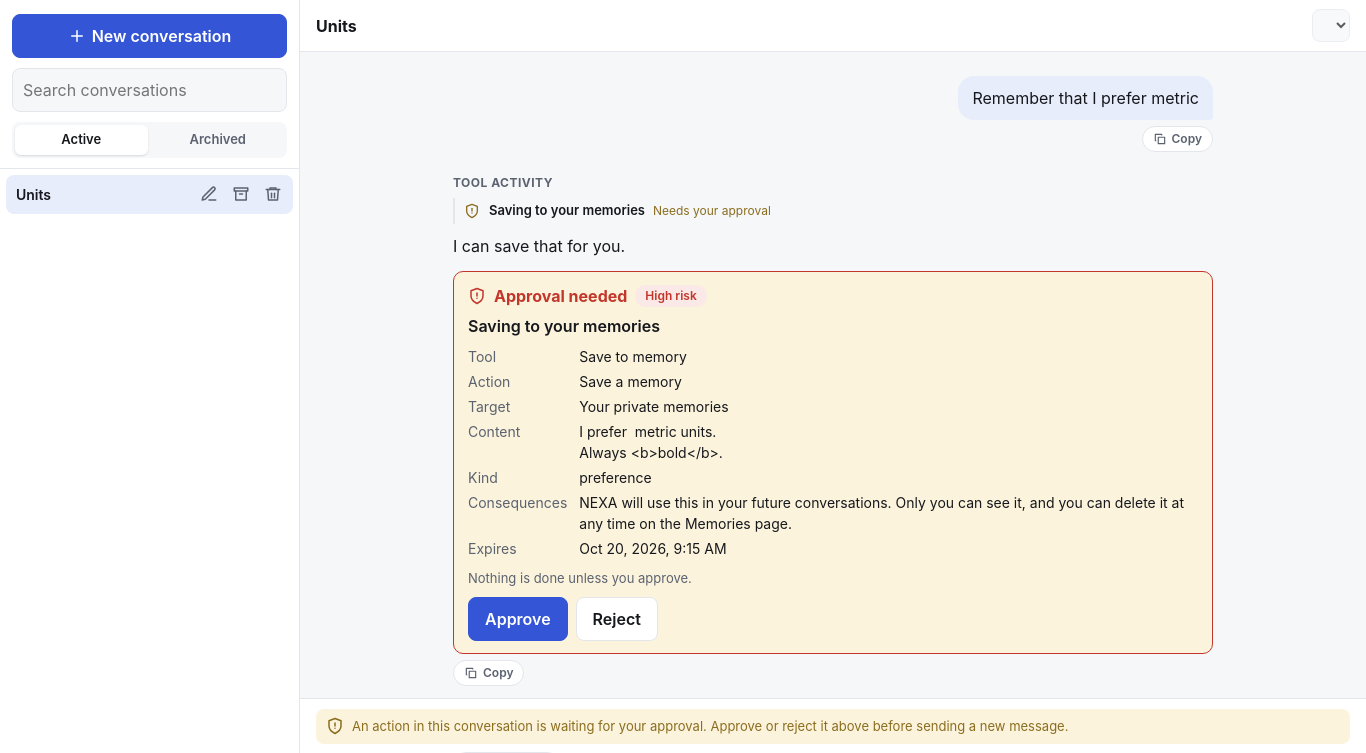
Test: ChatPage with AI tools › shows a paused reply from the stored messages, and rejects it
This screenshot has width=1366, height=753.
Check: the text "Save a memory" is shown, box 579,373 -> 682,390
Check: the text "An action in this conversation is waiting for your approval. Approve or reject it above before sending a new message." is shown, box 352,718 -> 1068,734
Click the button "Reject" at (617, 619), box 576,597 -> 658,641
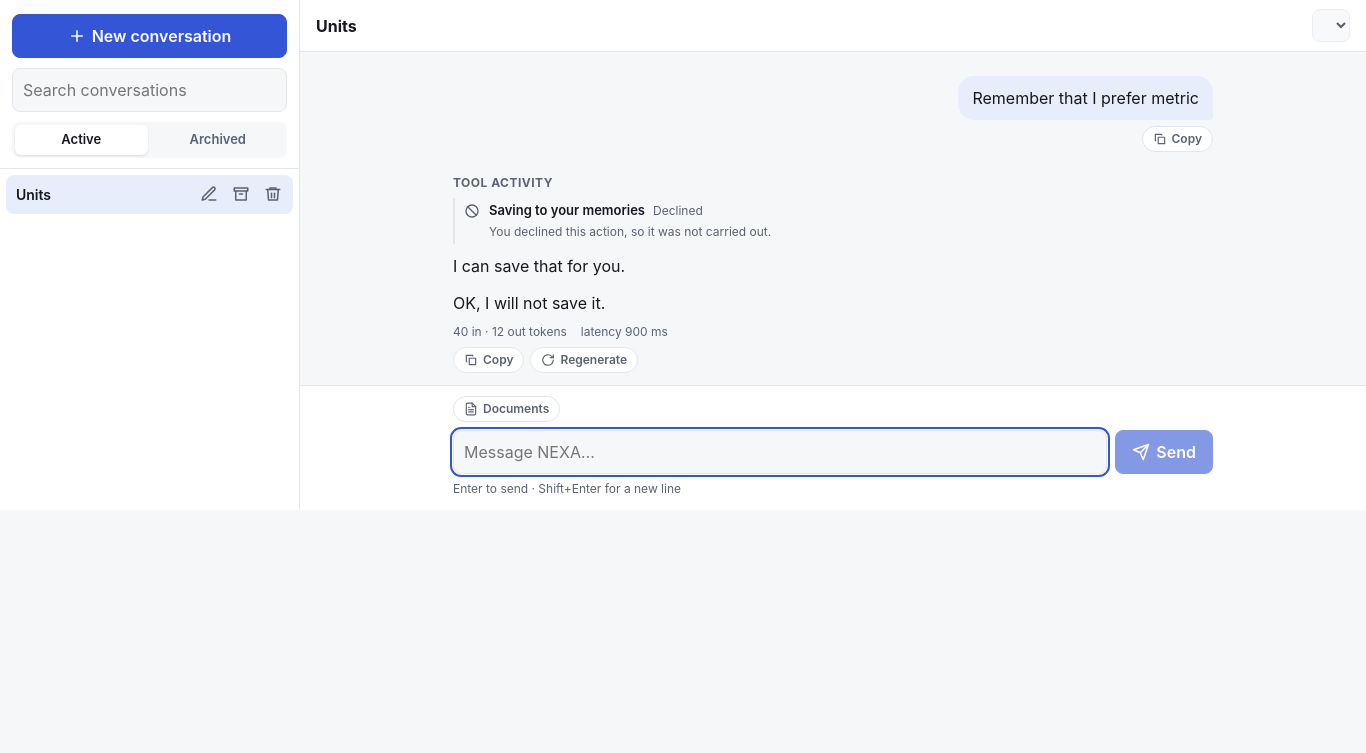
Check: the text "You declined this action, so it was not carried out." is shown, box 489,224 -> 771,238
Check: the text "OK, I will not save it." is shown, box 453,293 -> 605,313
Check: the text "Approval needed" is gone
